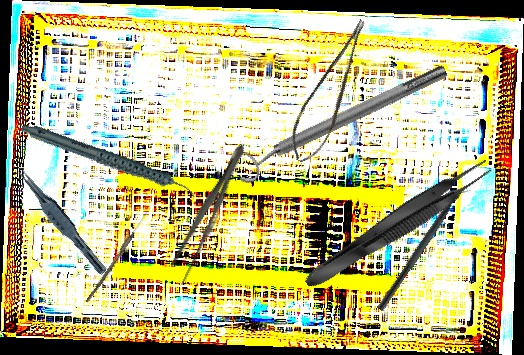Chopper: (377, 181, 473, 318)
Dressing Forceps: (163, 138, 253, 289)
Fixation Ring: (227, 54, 455, 188)
Handpiece: (19, 90, 199, 233)
Micro Scissor: (276, 16, 391, 169)
Surgical Spoon: (85, 210, 149, 305)
Tissue Forceps: (298, 152, 497, 296), (9, 163, 114, 277)
